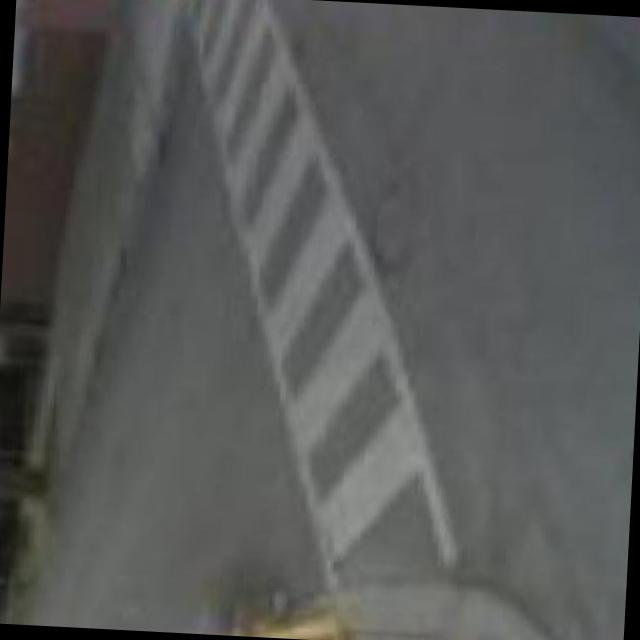zebra: (173, 0, 461, 594)
